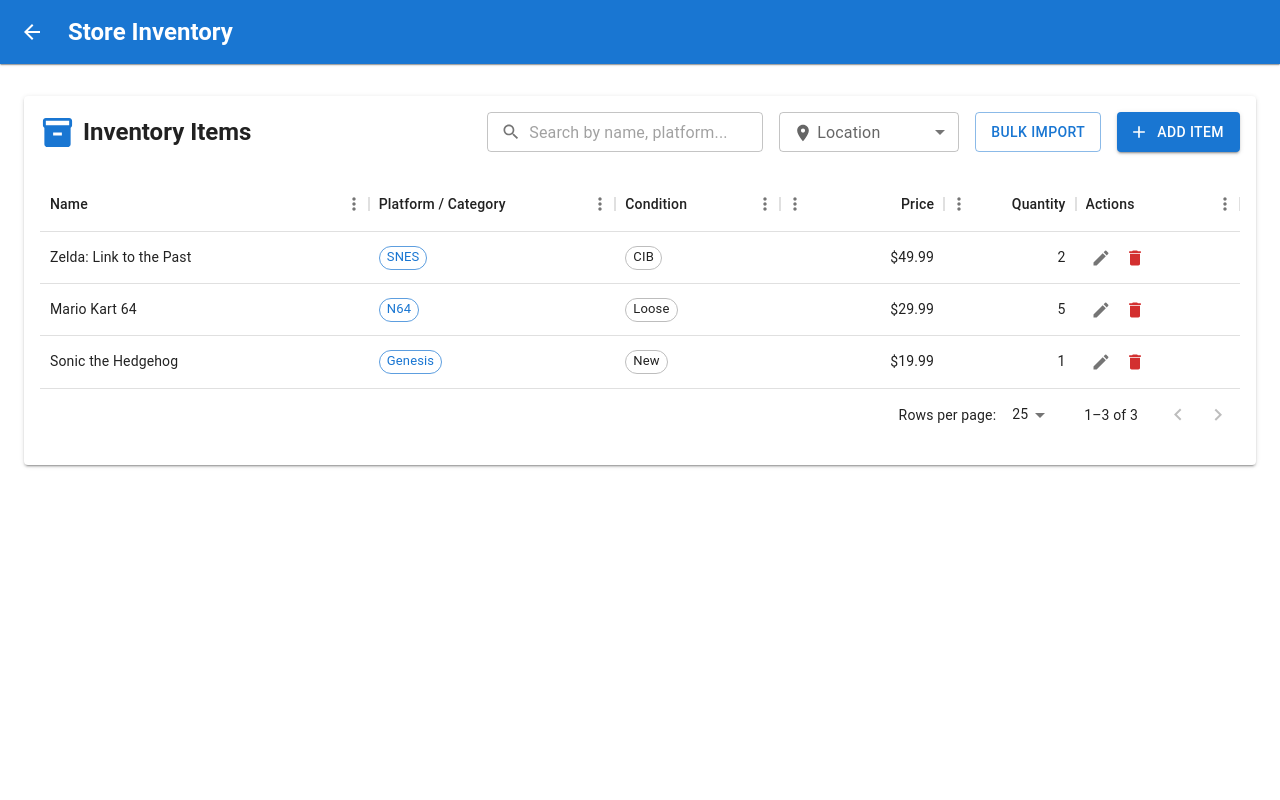
Test: InventoryPage › Add Item dialog › opens Add Item dialog when Add Item button is clicked
This screenshot has width=1280, height=800.
Click the button "Add Item". click: point(1179, 132)
box: left=1117, top=112, right=1240, bottom=152
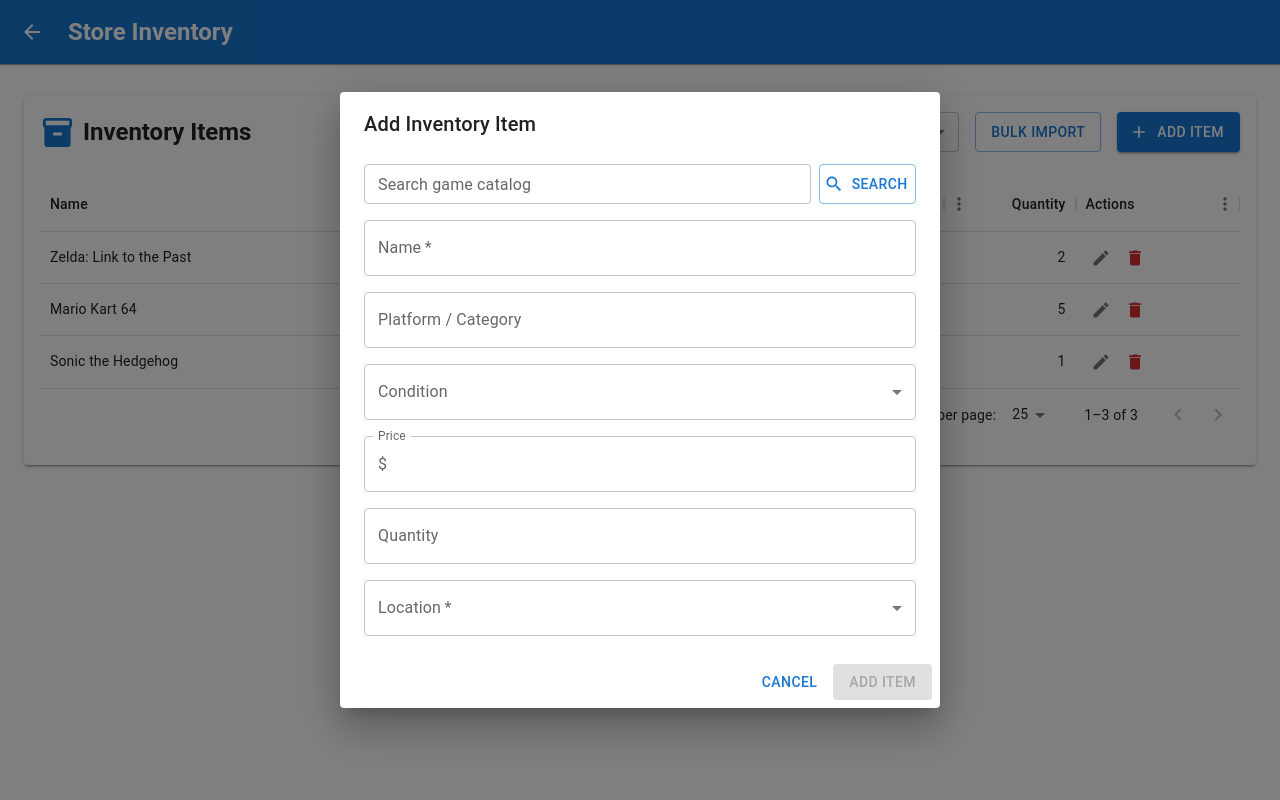
Result: the dialog is shown at left=340, top=92, right=940, bottom=708
Result: the heading "Add Inventory Item" is shown at left=364, top=112, right=536, bottom=136
